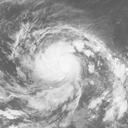cyclone: (30, 39, 85, 85)
